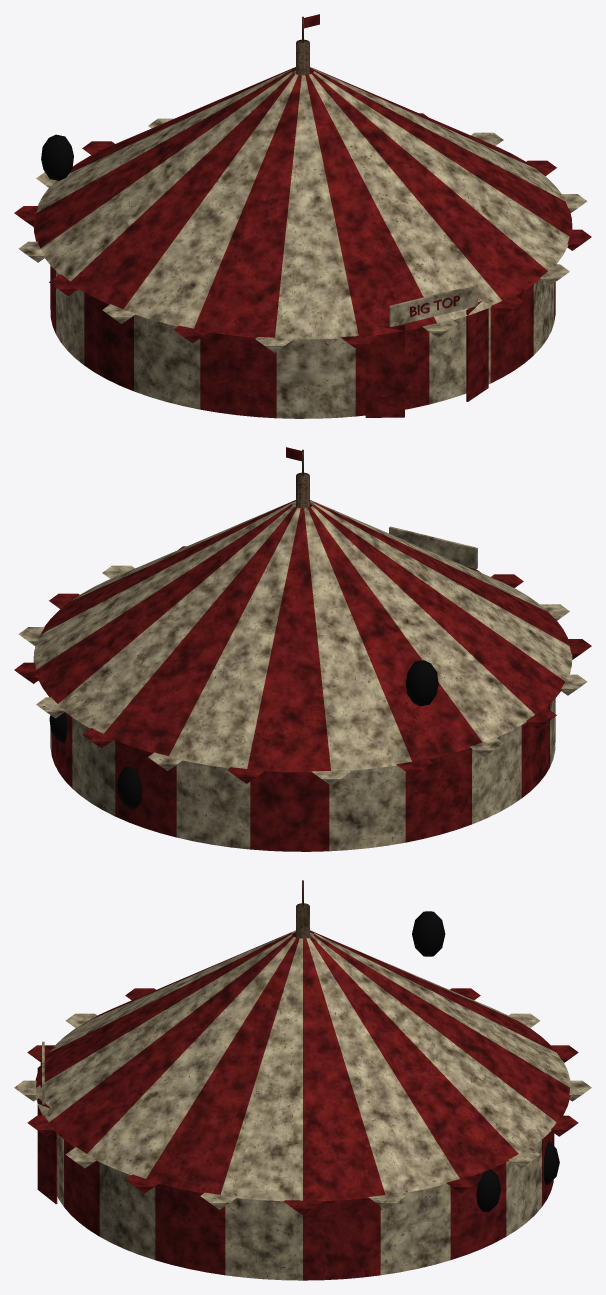
Rendered from circus_tent.glb.
3 renders of one model, top to bottom at view 1: azimuth 30°, elevation 25°; view 2: azimuth 150°, elevation 25°; view 3: azimuth 270°, elevation 25°, orthographic.
Parts seen in each view (by area): view 1: Main; view 2: Main; view 3: Main.
Boxes of the visible parts, x1,y1,x2,y2 form: Main: (14,14,591,418); Main: (14,447,591,851); Main: (14,880,591,1280).
Size of the model in its own units: 20.51 by 11.6 by 20.7.
Materials: 1 (1 with a texture image).
